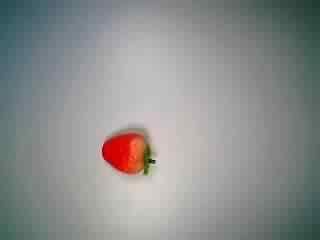strawberry: (90, 121, 163, 188)
